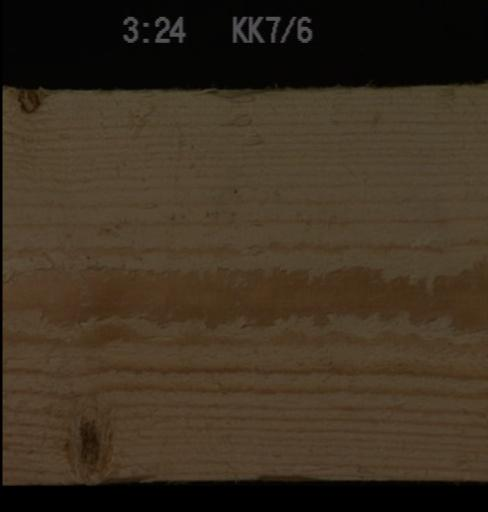edge_knot: (14, 86, 42, 113)
wave: (249, 459, 328, 481)
